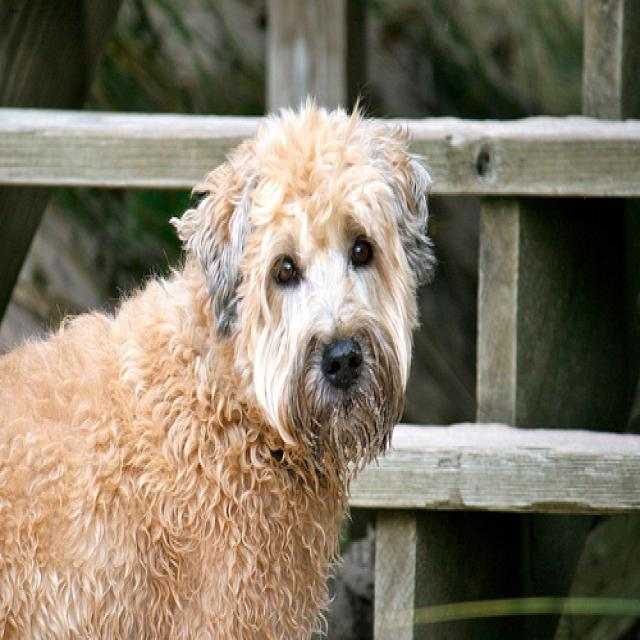dog-wheaten_terrier: (1, 94, 444, 636)
